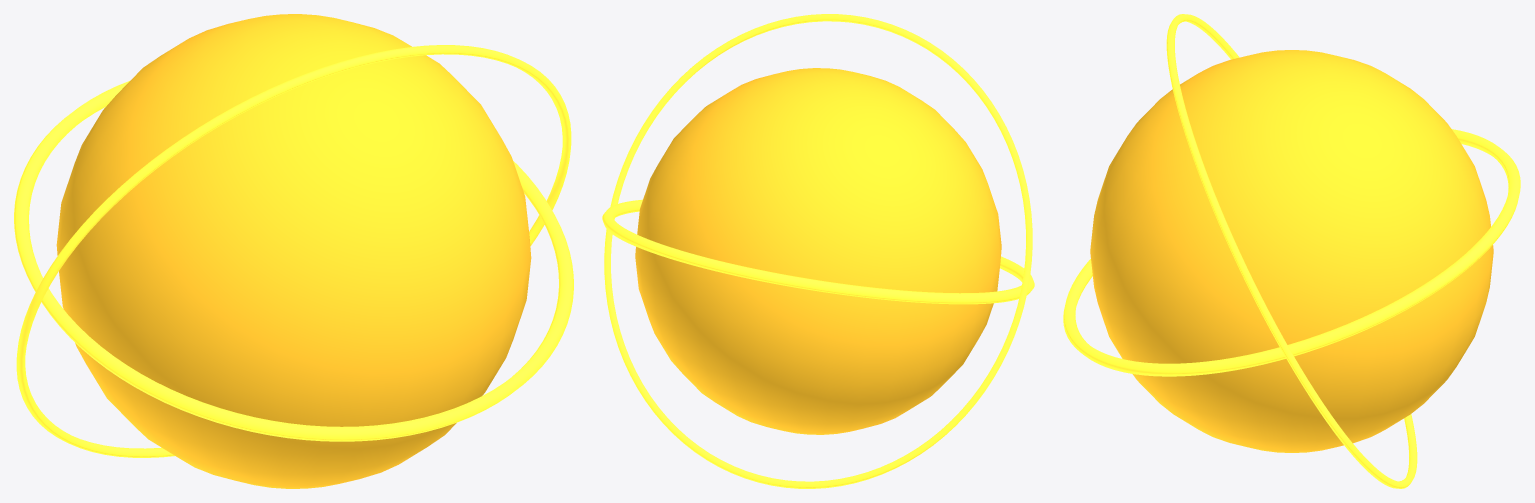
The model's file is kb_ball.glb.
3 views of the same model, side by side, from view 1: azimuth 30°, elevation 25°; view 2: azimuth 150°, elevation 25°; view 3: azimuth 270°, elevation 25° (orthographic). The views are drawn at different scales.
Visible parts, largest first — view 1: skin; view 2: skin; view 3: skin.
Boxes of the visible parts, <box> form: skin: <box>14,14,573,488</box>; skin: <box>602,14,1034,488</box>; skin: <box>1063,14,1520,488</box>.
Size of the model in its own units: 1.79 by 1.58 by 1.56.
